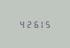five: (46, 20, 52, 28)
four: (18, 20, 24, 28)
one: (39, 20, 45, 28)
six: (32, 20, 38, 28)
two: (25, 20, 31, 28)
